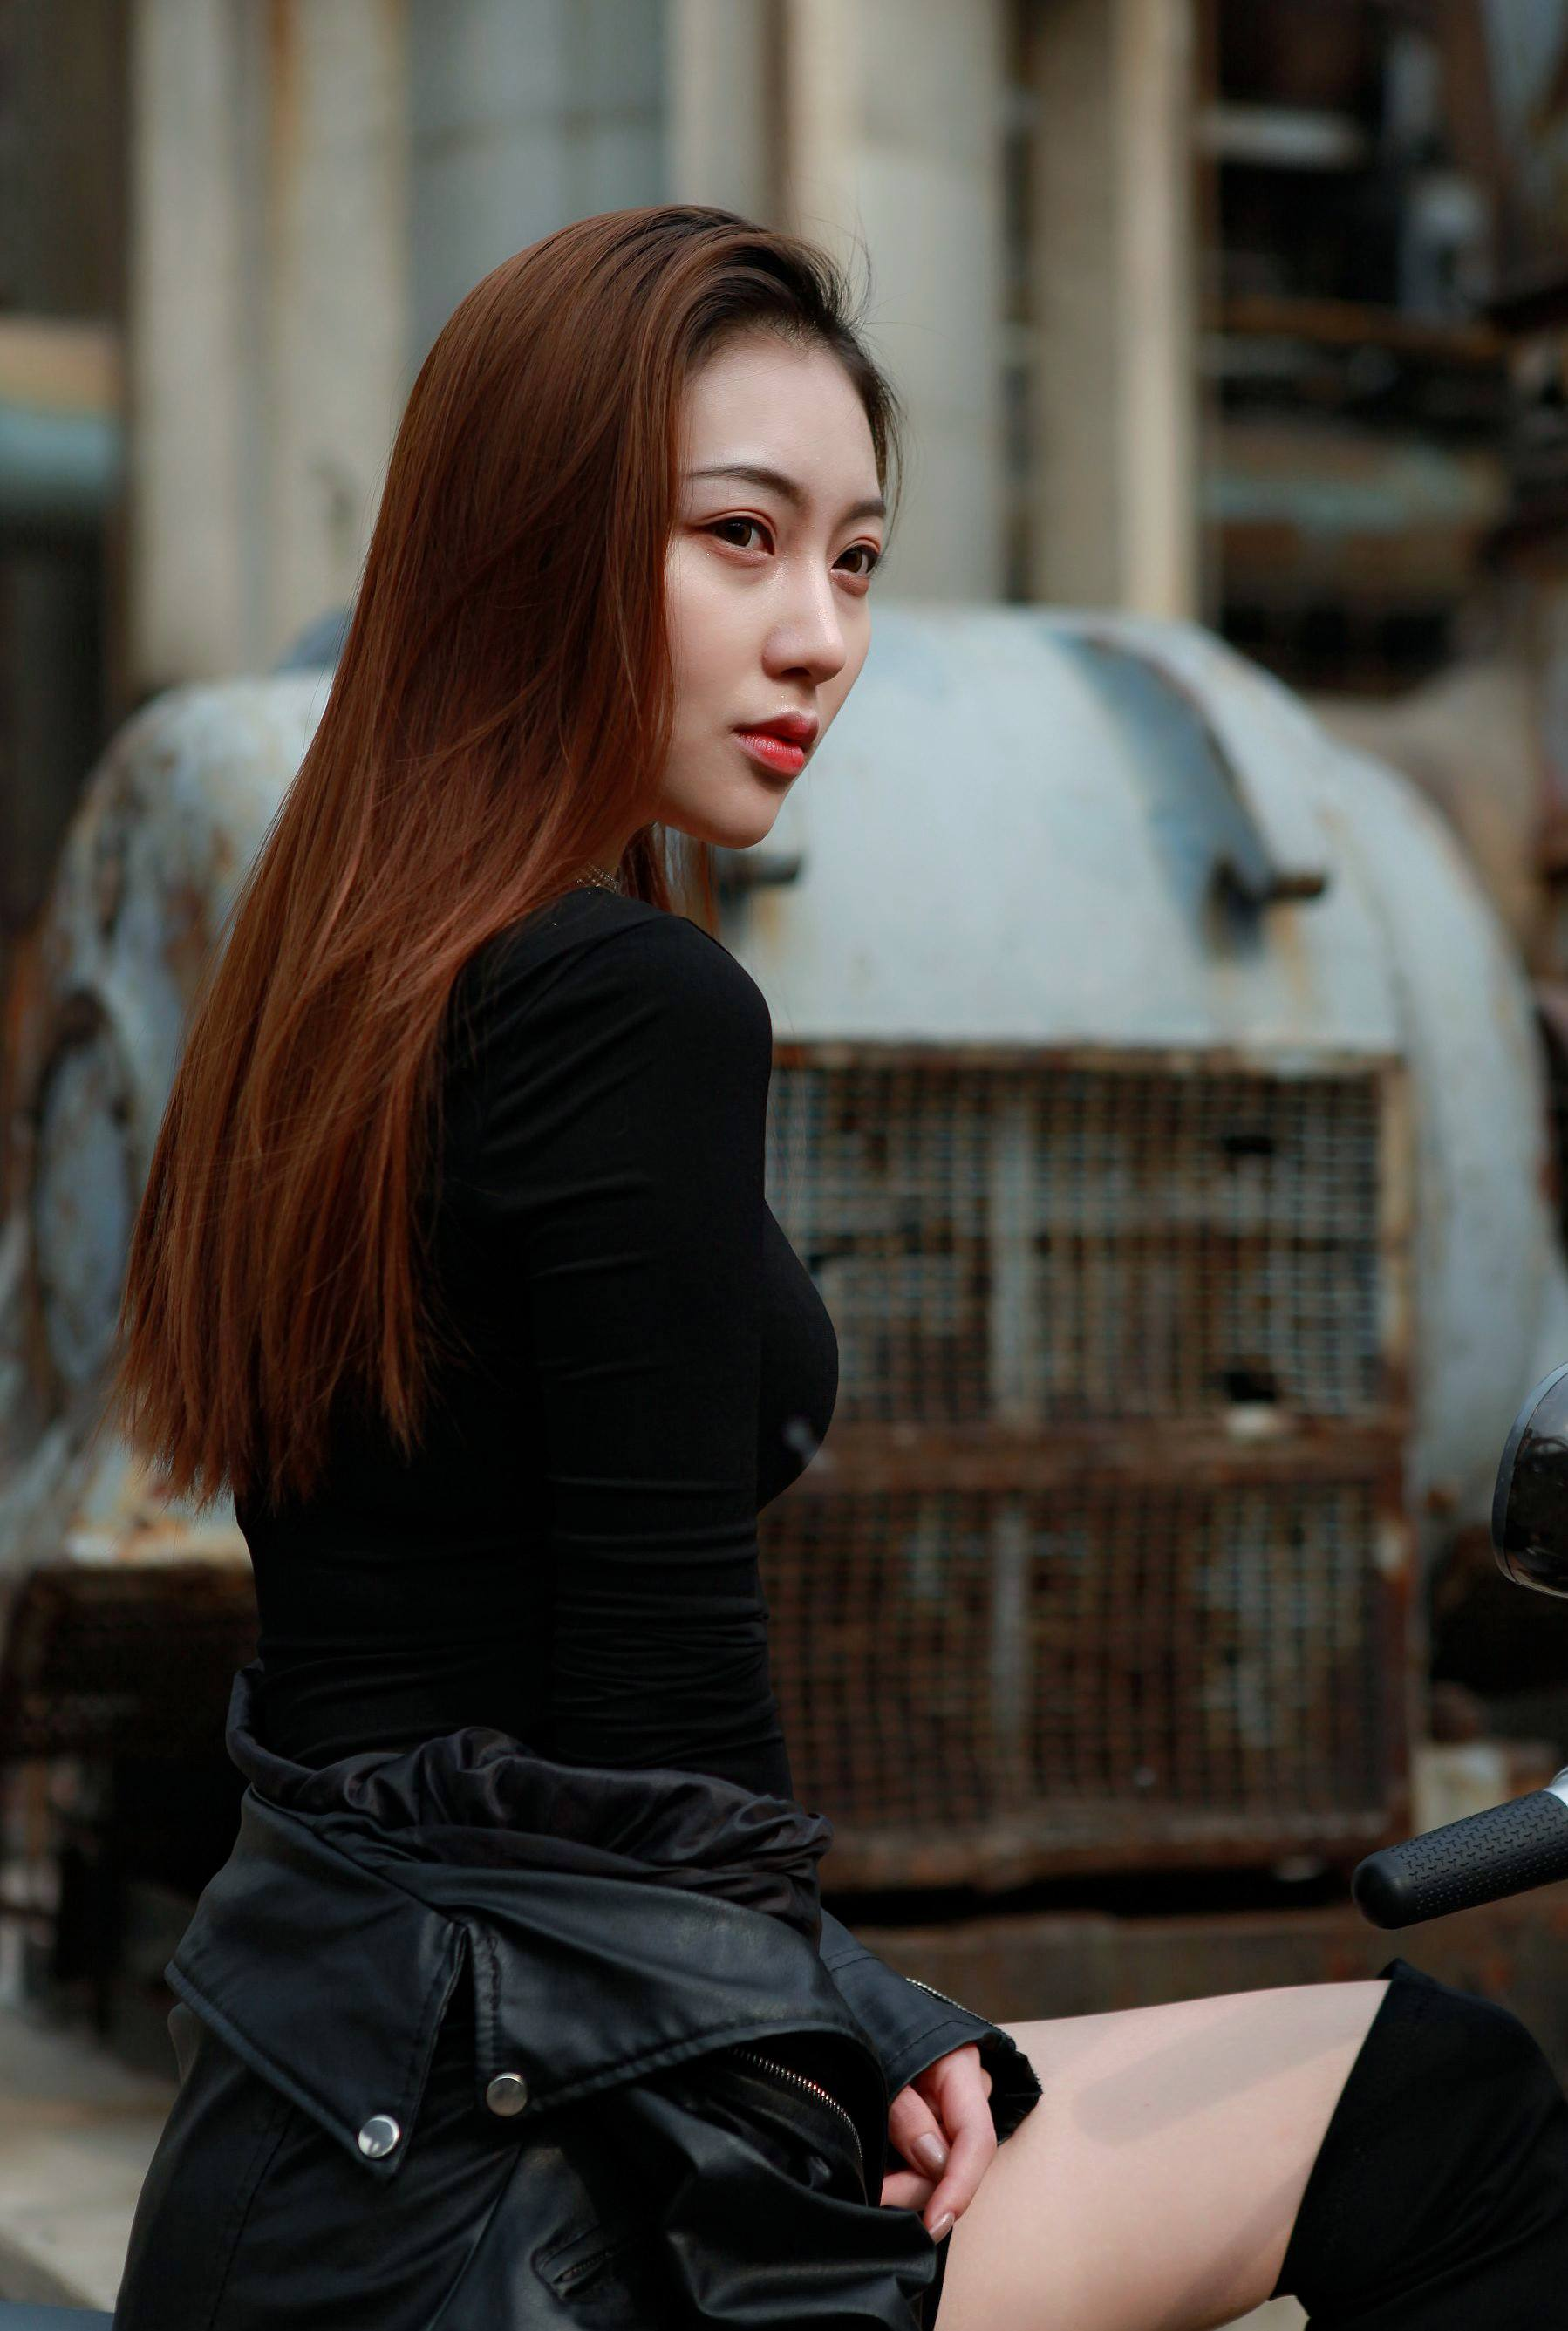person: (283, 144, 1265, 1302)
